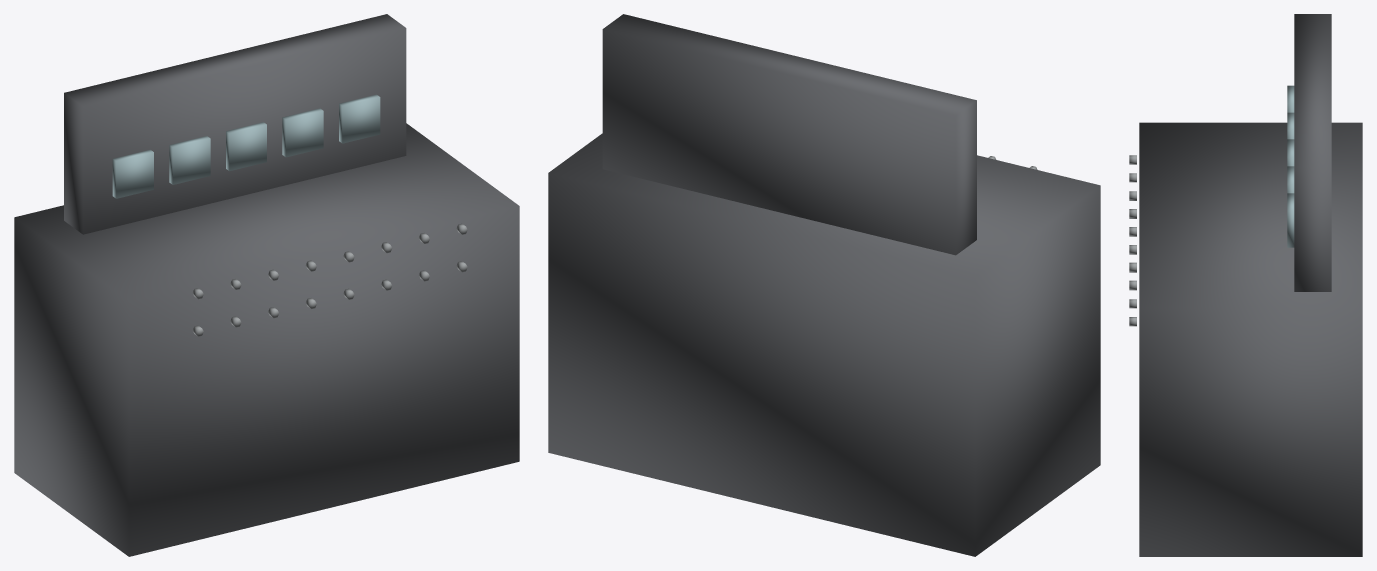
The model's file is dispatch_console__compact.glb.
3 renders of one model, left to right at view 1: azimuth 30°, elevation 25°; view 2: azimuth 150°, elevation 25°; view 3: azimuth 270°, elevation 25°, orthographic. The views are drawn at different scales.
Parts seen in each view (by area): view 1: world; view 2: world; view 3: world.
Part boxes in pixels (x1=…): world: x1=14, y1=14, x2=519, y2=556; world: x1=548, y1=14, x2=1100, y2=556; world: x1=1129, y1=14, x2=1362, y2=556.
Bounding box in the file's own units: 1.22 × 1.14 × 0.6471.
